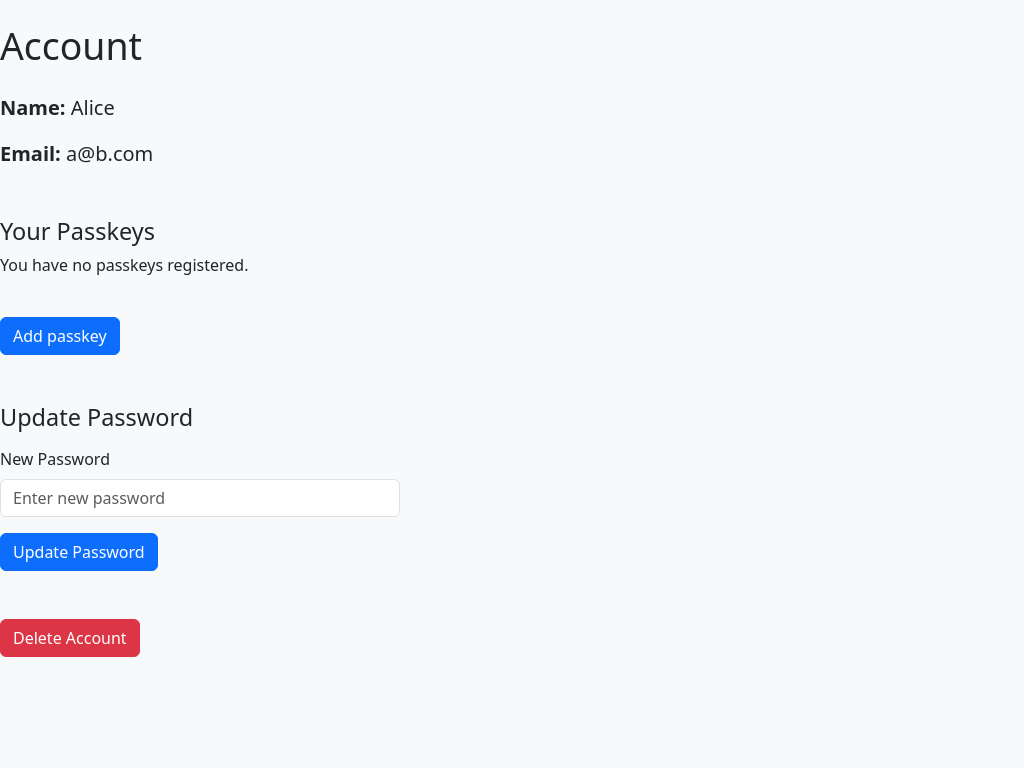
AccountPage — delete account › opens a confirmation modal when Delete Account is clicked
This screenshot has width=1024, height=768.
Click the button "Delete Account": click(70, 638) [0,619,140,657]
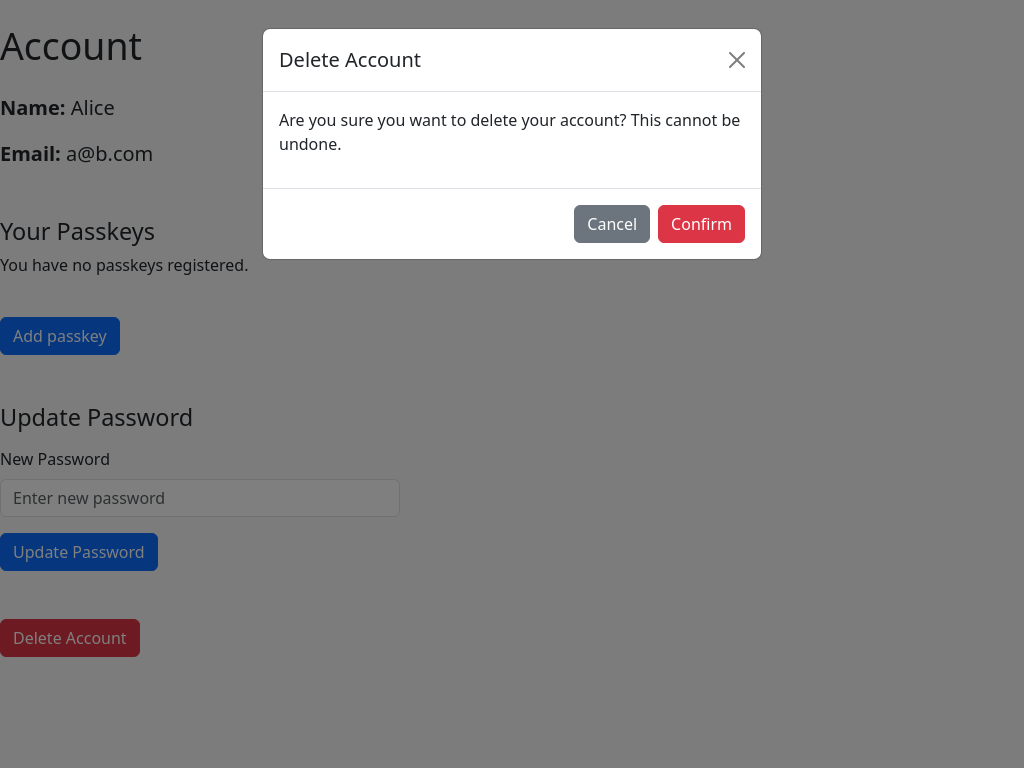
Expected: the text "cannot be undone" is shown, [279,109,740,155]
Expected: the button "Confirm" is shown, [658,205,745,243]
